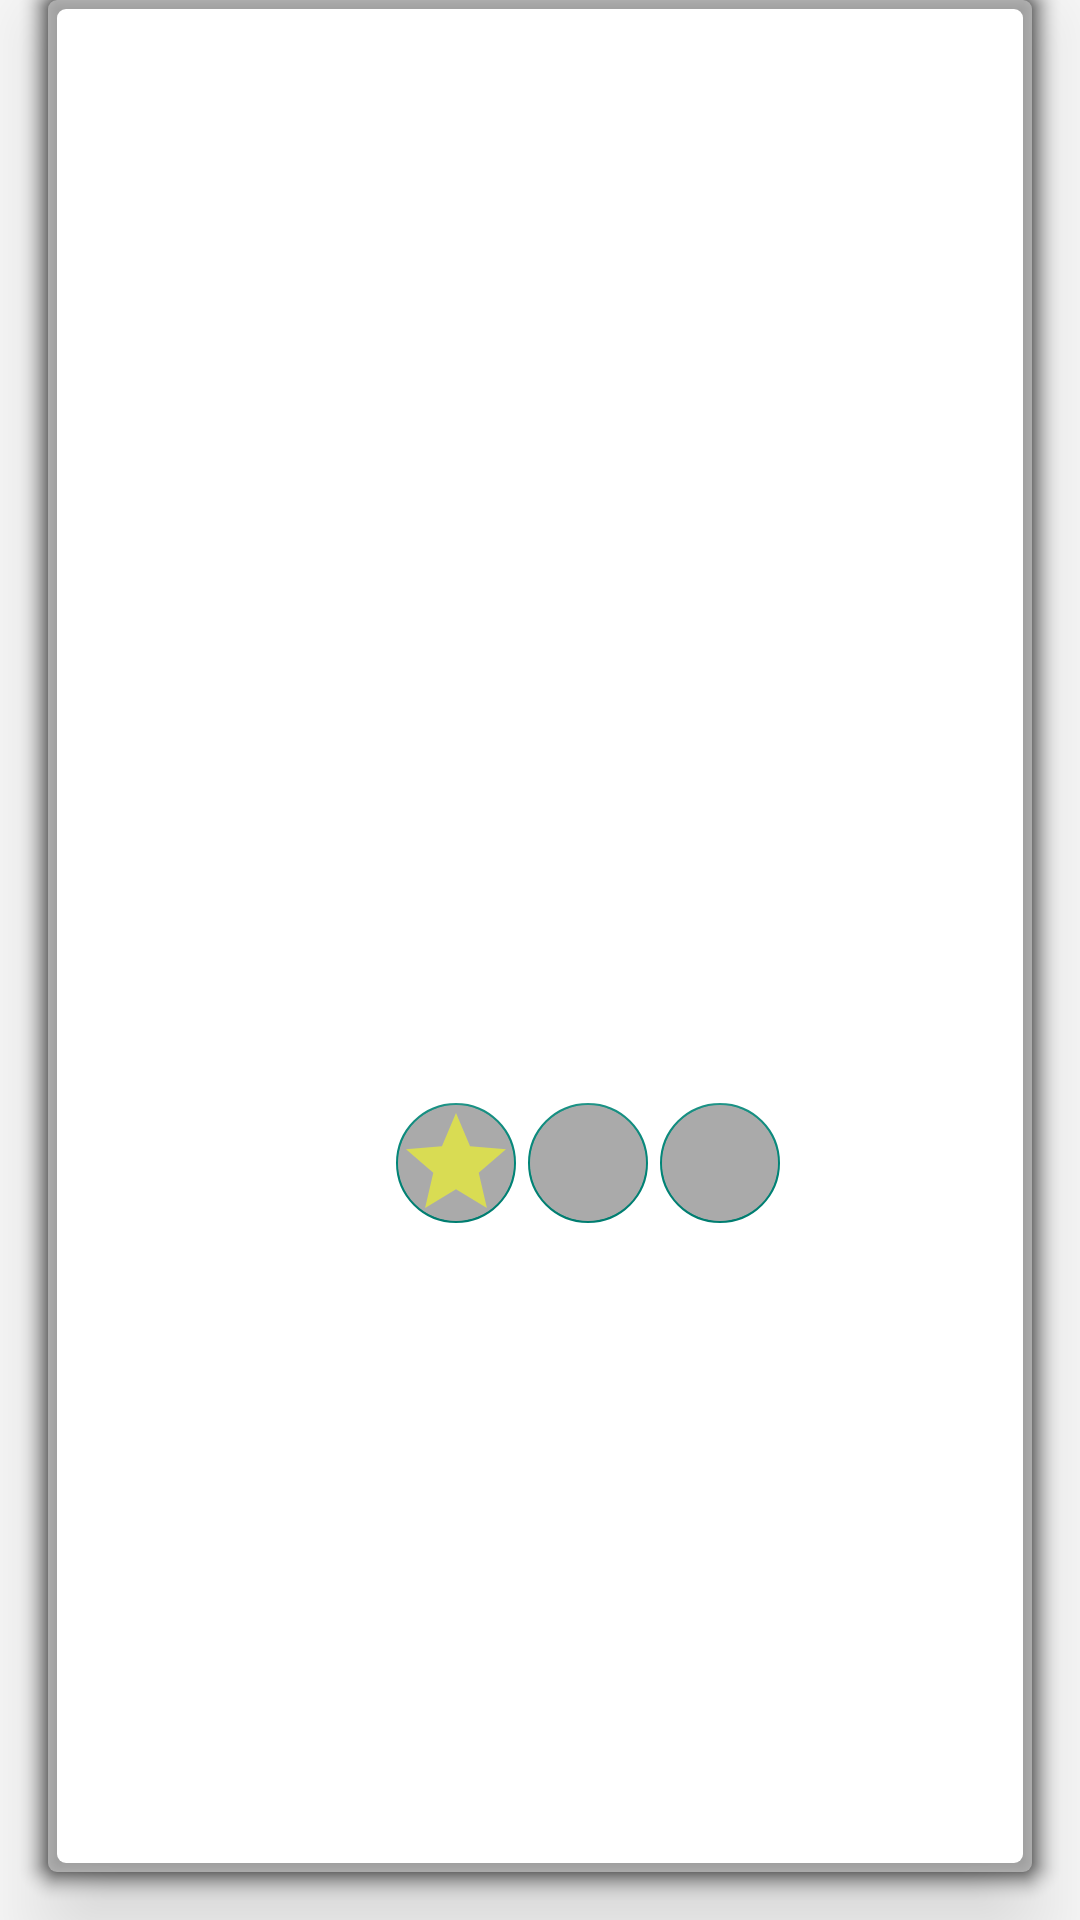

Icons on this 1080w x 1920h Android screen, each with the point to tap as point (x, y):
star on: point (456, 1163)
